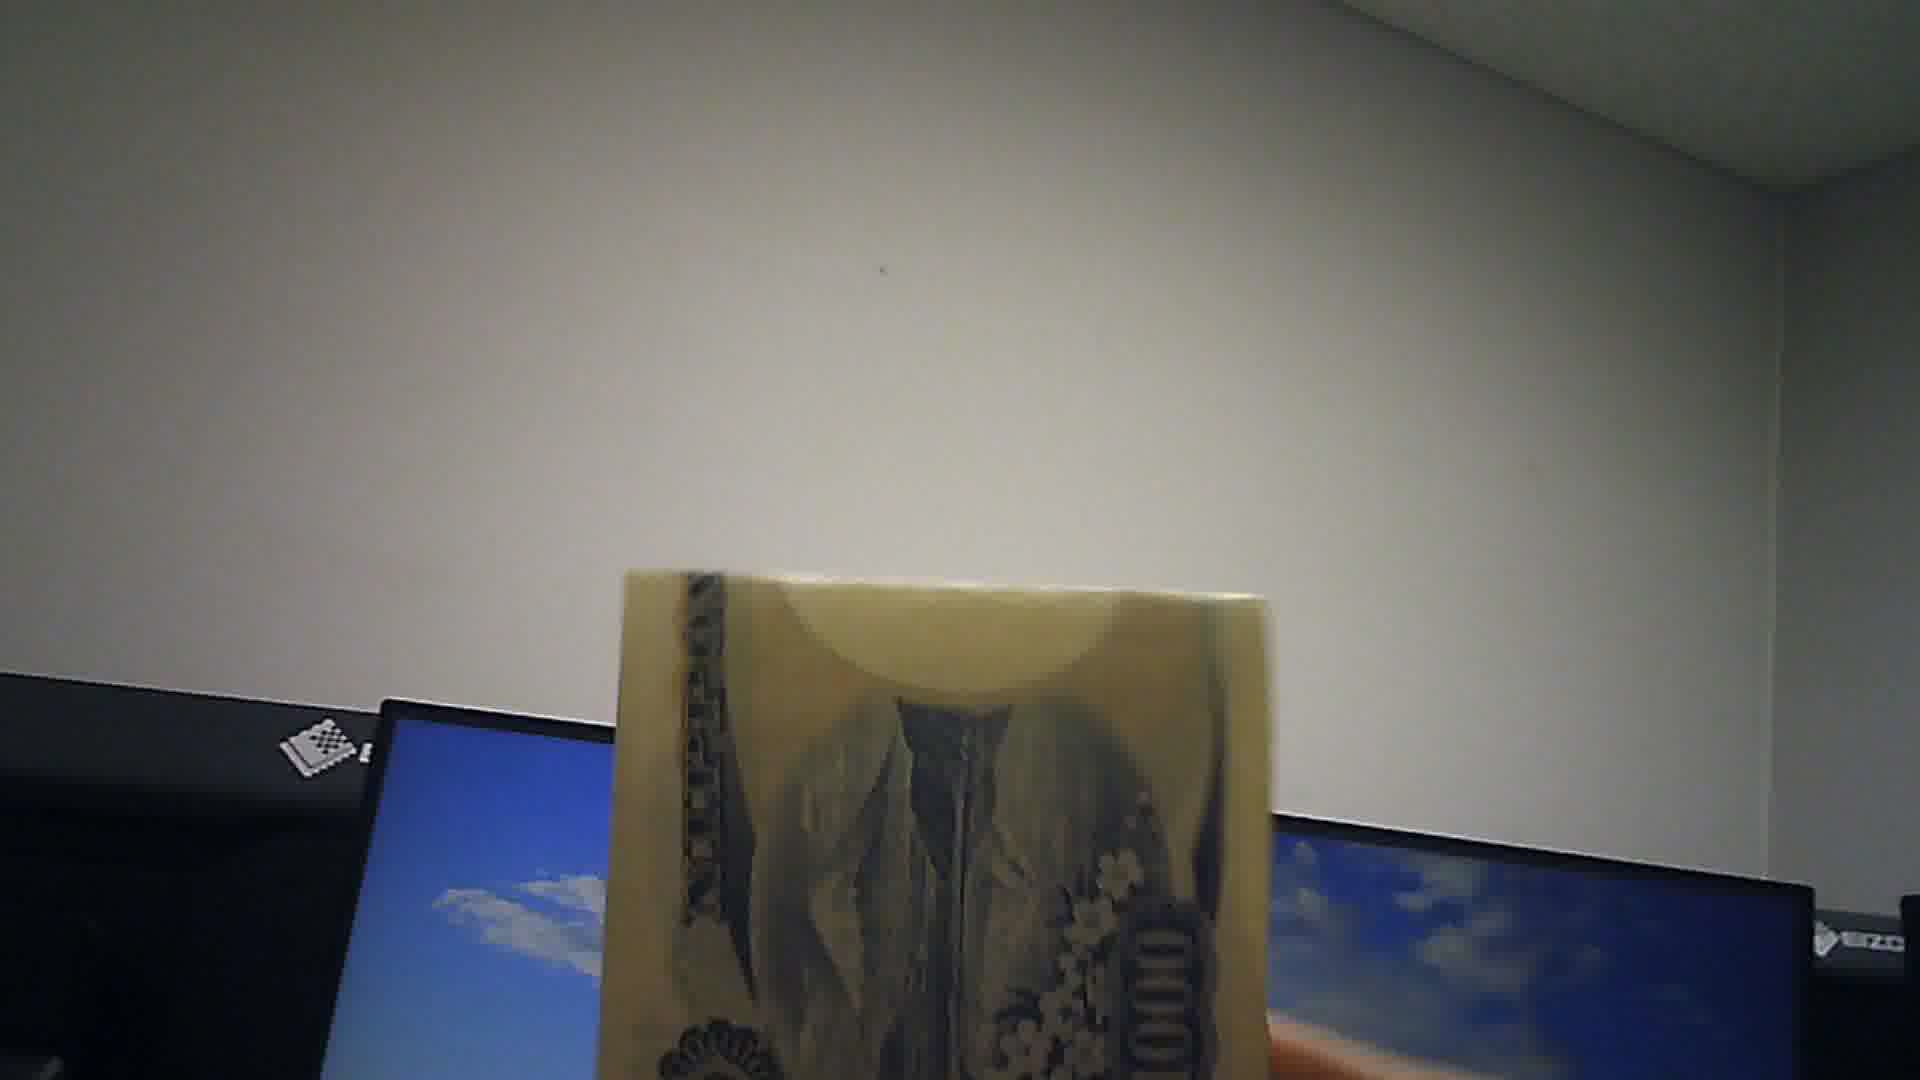1,000 Yen: (603, 553, 1276, 1079)
